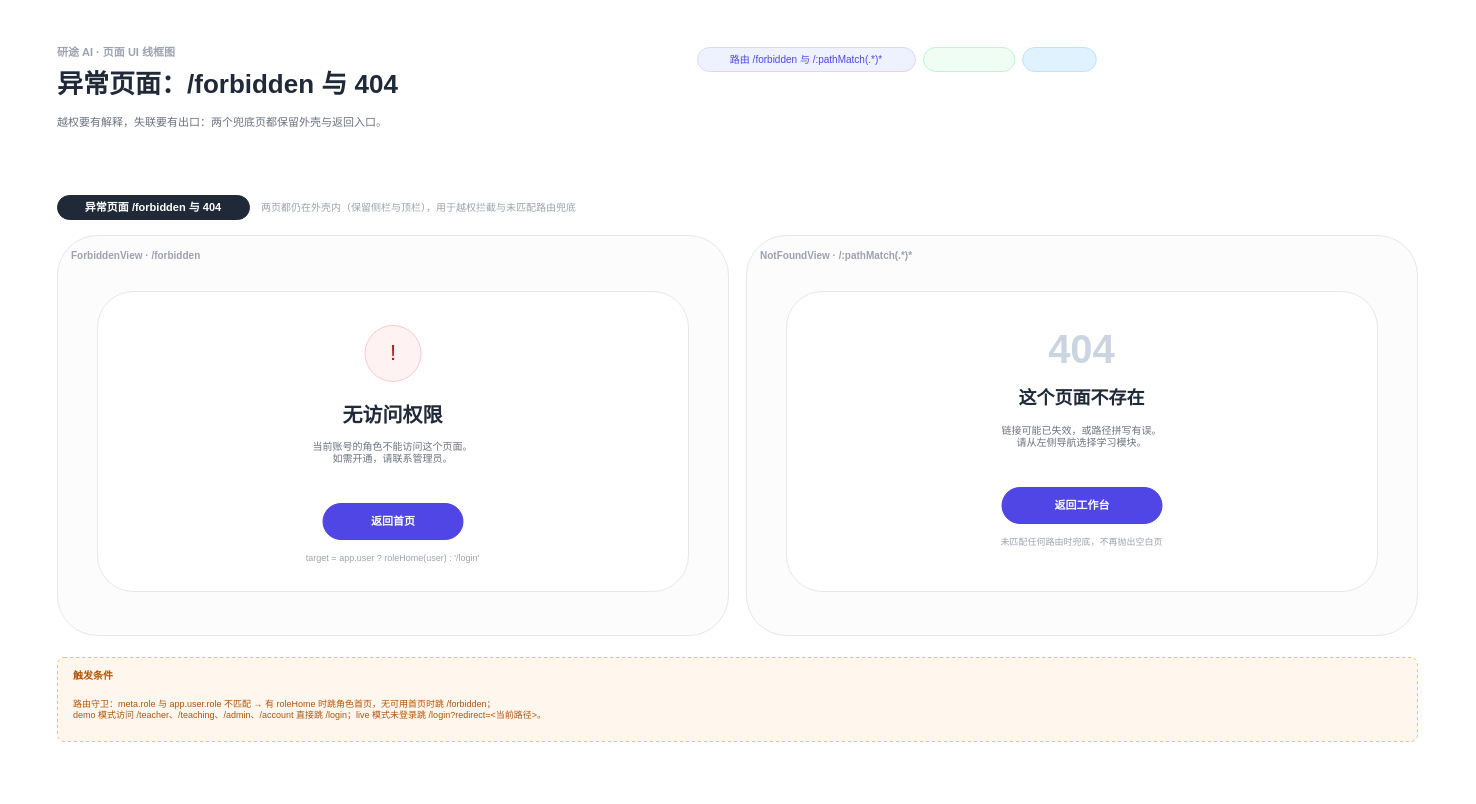
Image size: 1476x804. Some labels were removed from this diagram. Each missing label, with the centre of its shape:
"模式 live" belongs at point (1059, 59).
"角色 全部角色" belongs at point (968, 59).
